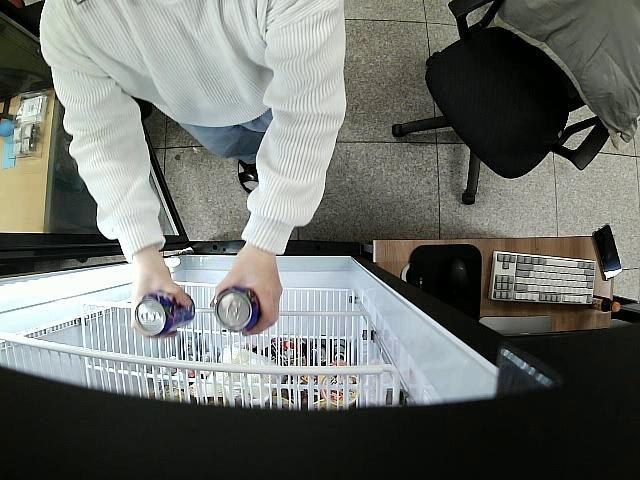14_welchsGrape: (134, 294, 195, 335), (214, 286, 261, 334)
